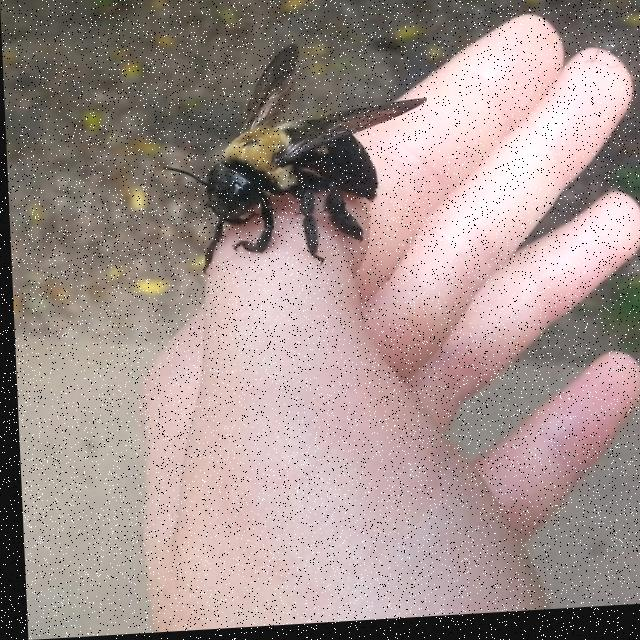Xylocopa: (149, 43, 412, 279)
